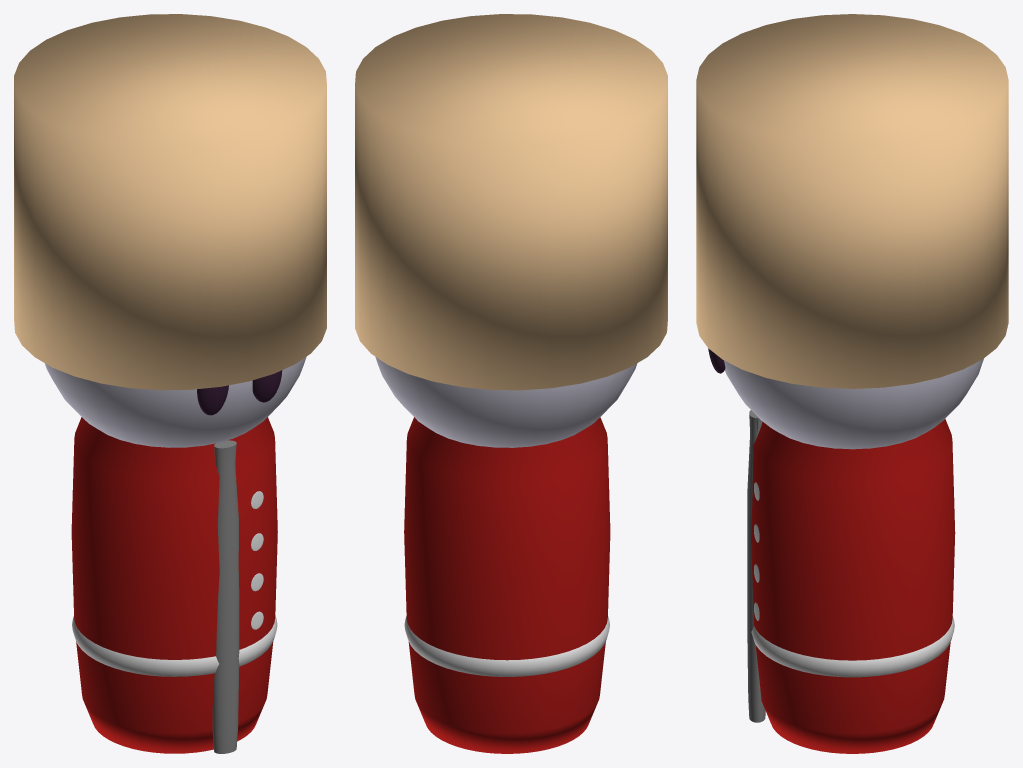
File: EnglishGuard-kun.fbx
3 renders of one model, left to right at view 1: azimuth 30°, elevation 25°; view 2: azimuth 150°, elevation 25°; view 3: azimuth 270°, elevation 25°, orthographic.
Parts seen in each view (by area): view 1: Cylinder, Torus.002, Sphere, Torus.001, Torus, Sphere.002; view 2: Cylinder, Torus.002, Sphere, Torus; view 3: Cylinder, Torus.002, Sphere, Torus, Torus.001.
Boxes of the visible parts, x1,y1,x2,y2 form: Cylinder: (14, 14, 326, 390); Torus.002: (71, 417, 277, 753); Sphere: (45, 356, 306, 447); Torus.001: (212, 440, 239, 753); Torus: (72, 615, 277, 676); Sphere.002: (197, 370, 282, 415); Cylinder: (355, 14, 667, 390); Torus.002: (404, 417, 610, 753); Sphere: (375, 357, 637, 447); Torus: (404, 616, 609, 676); Cylinder: (696, 14, 1008, 388); Torus.002: (751, 419, 955, 753); Sphere: (724, 358, 983, 449); Torus: (751, 616, 954, 677); Torus.001: (747, 410, 765, 722).
Bounding box in the file's own units: 60.77 × 137 × 60.77.
